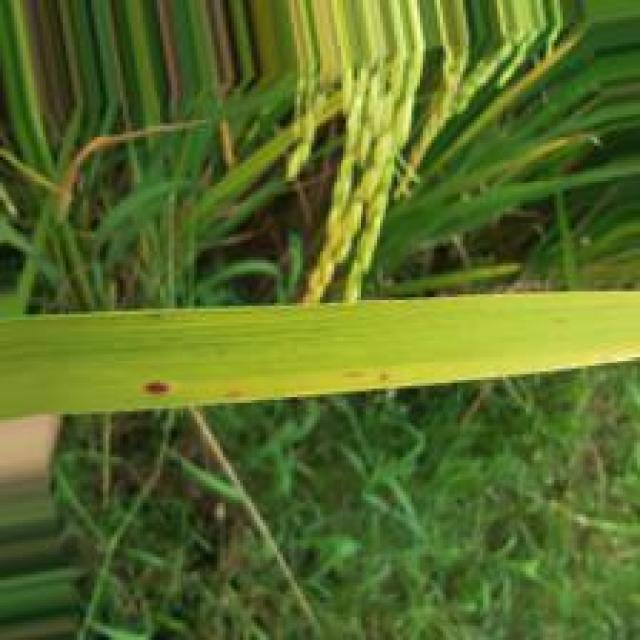Brown_Spot: (136, 378, 182, 398)
